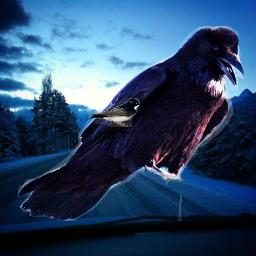Crow: (18, 26, 244, 221)
Swallow: (88, 98, 140, 127)
